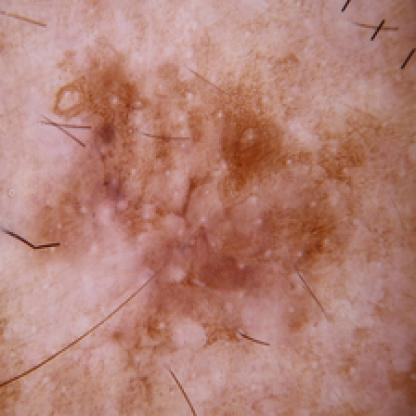Skin_Cancer-Malignant: (40, 55, 390, 356)
